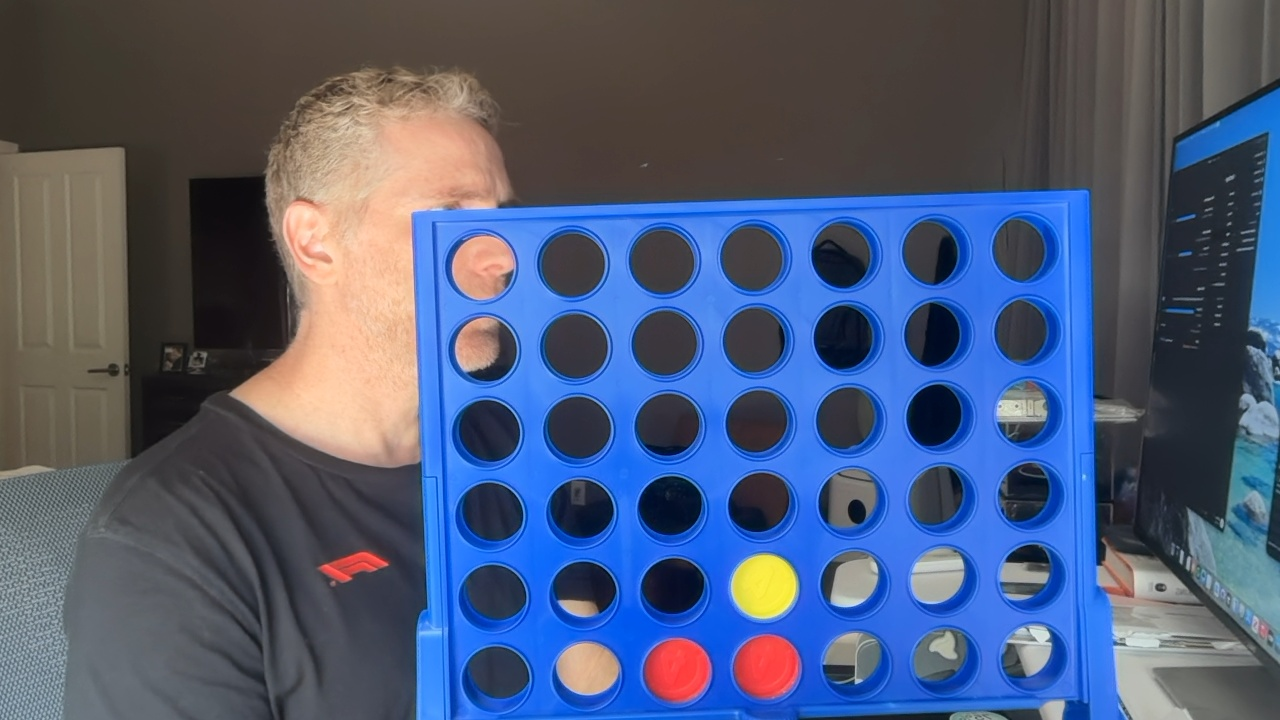red piece: (644, 639, 710, 703), (733, 635, 799, 699)
yellow piece: (731, 553, 798, 619)
